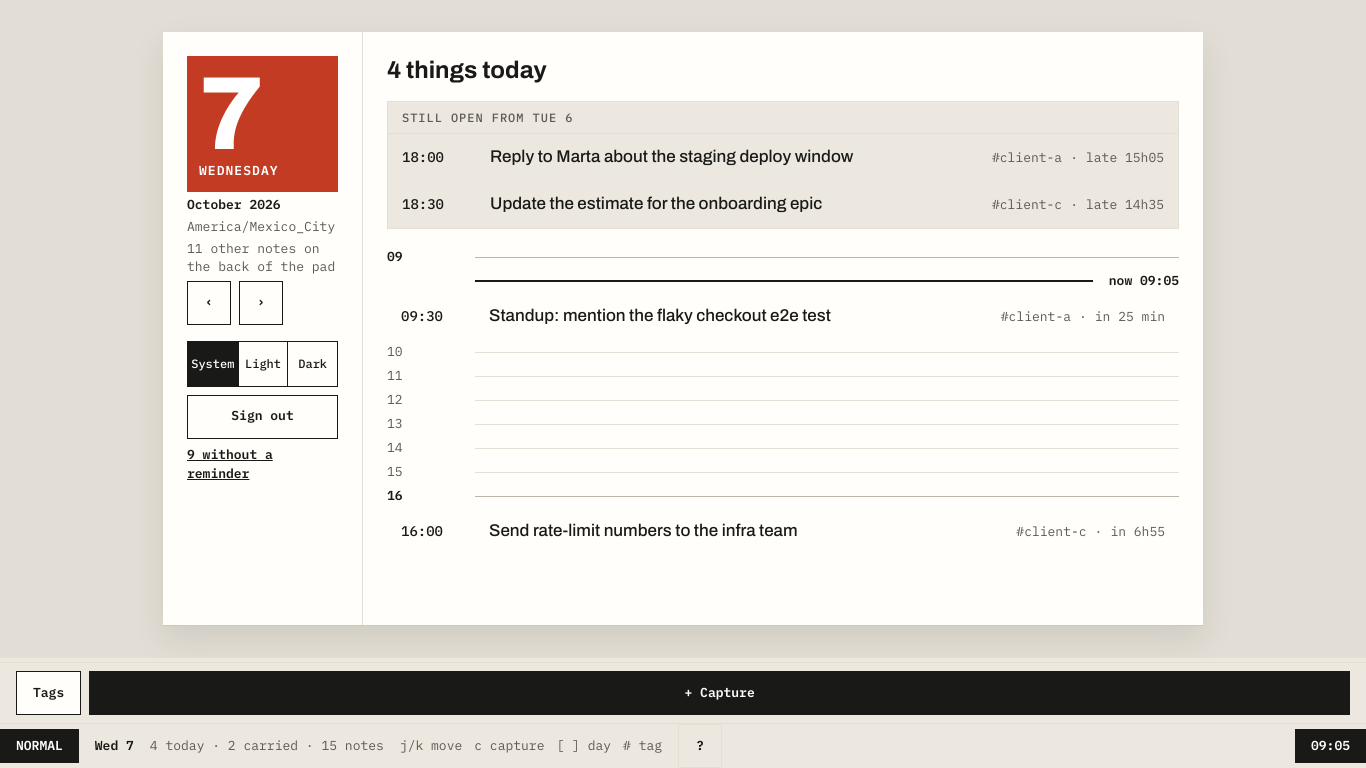
Test: on a narrow screen › tapping a row opens the action sheet; Done and +1 h use the same actions as the keys
The width and height of the screenshot is (1366, 768).
expect the heading "4 things today" is shown: met, box [387, 57, 547, 83]
Click the list item with aria-label "Send rate-limit numbers to the infra team, 16:00, open". click: x=783, y=531
box: [401, 521, 1165, 540]
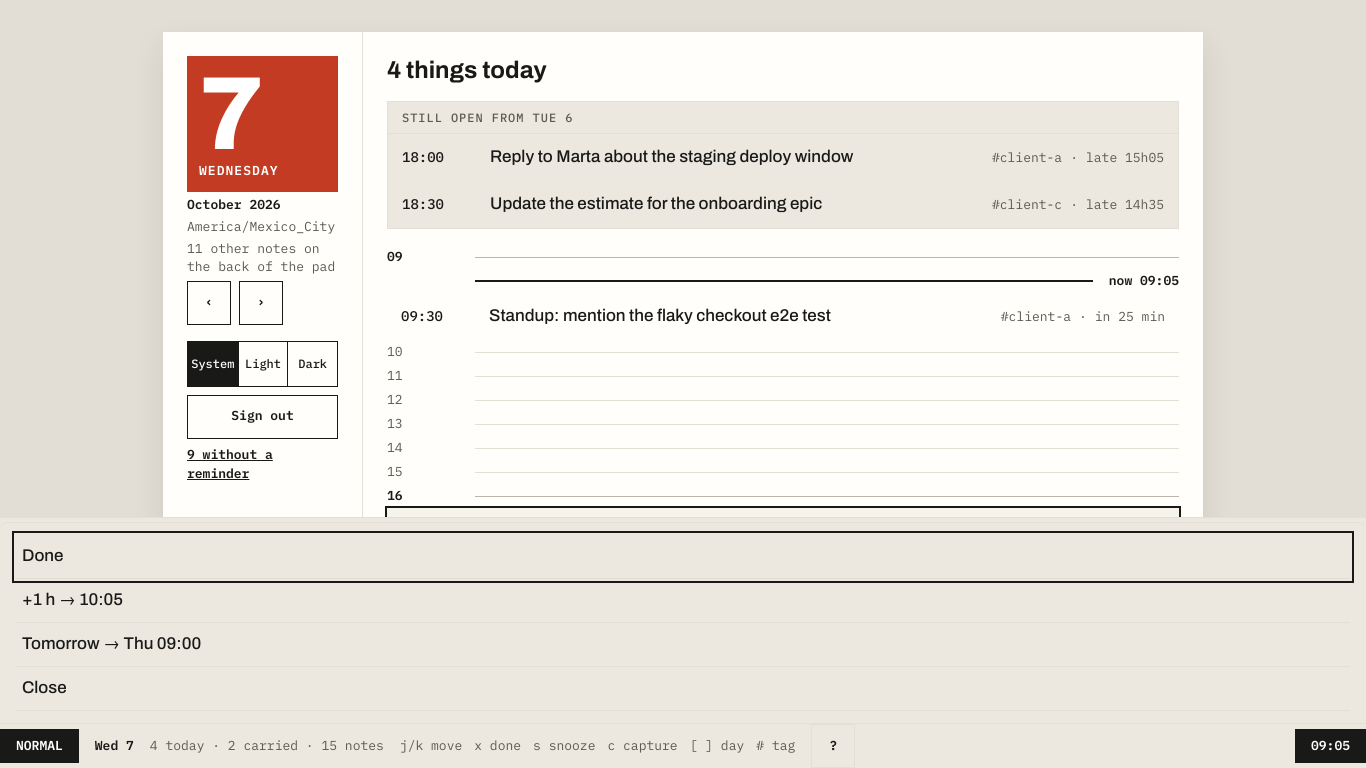
Click the button "+1 h → 10:05". click: x=73, y=600
box: [16, 579, 1350, 623]
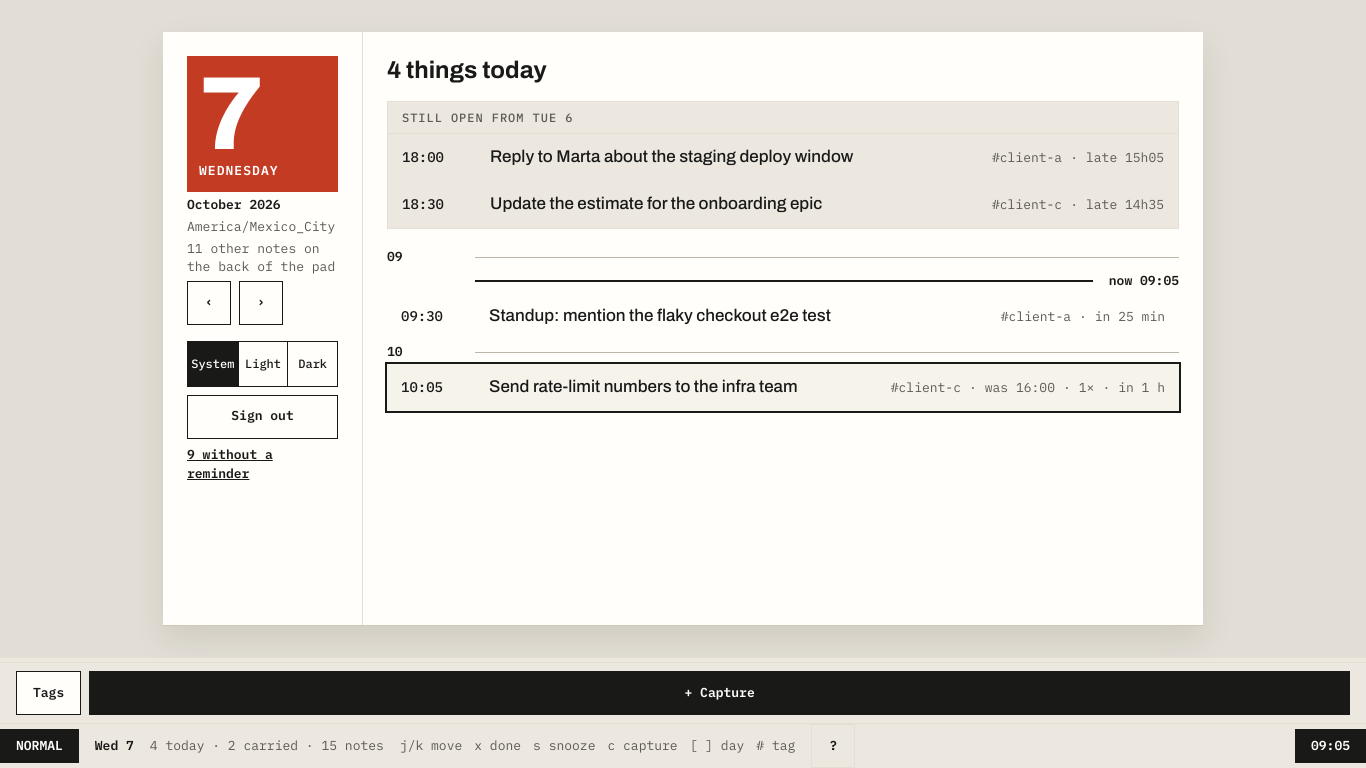
expect the dialog is gone: met
